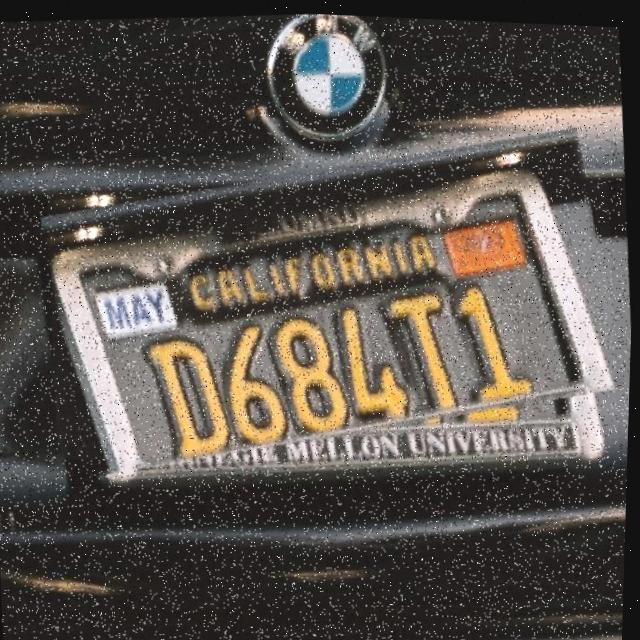LicensePlate: (40, 120, 628, 479)
